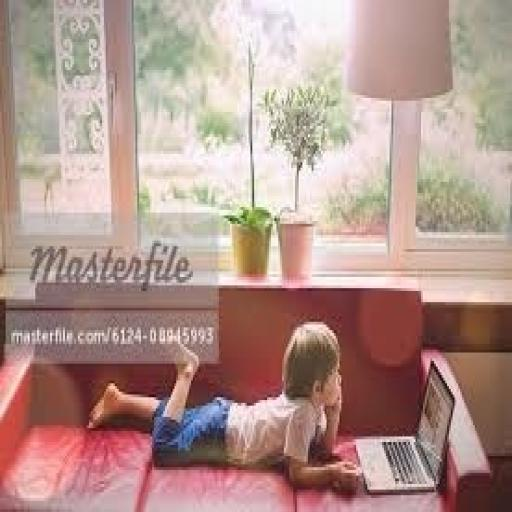using_laptop: (352, 356, 456, 496)
